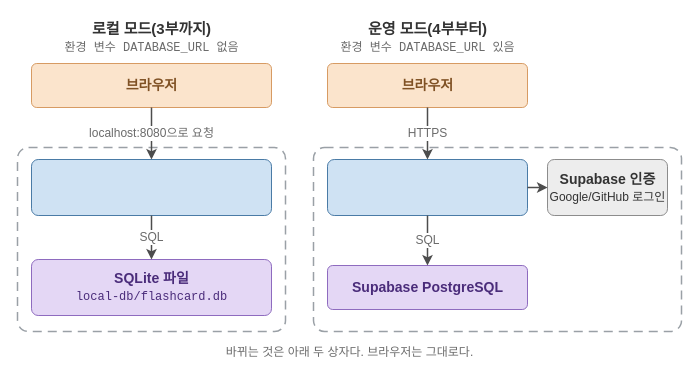
Some shapes in this 700 by 380 pixel diagram are drawn without their labels. The centre of each missing label's shape, as x and y in pixels:
"Vercel 서버리스 함수 같은 Gin 라우터" goes at [427,187].
"내 컴퓨터의 Go 서버 cmd/server → Gin 라우터" goes at [151,187].
